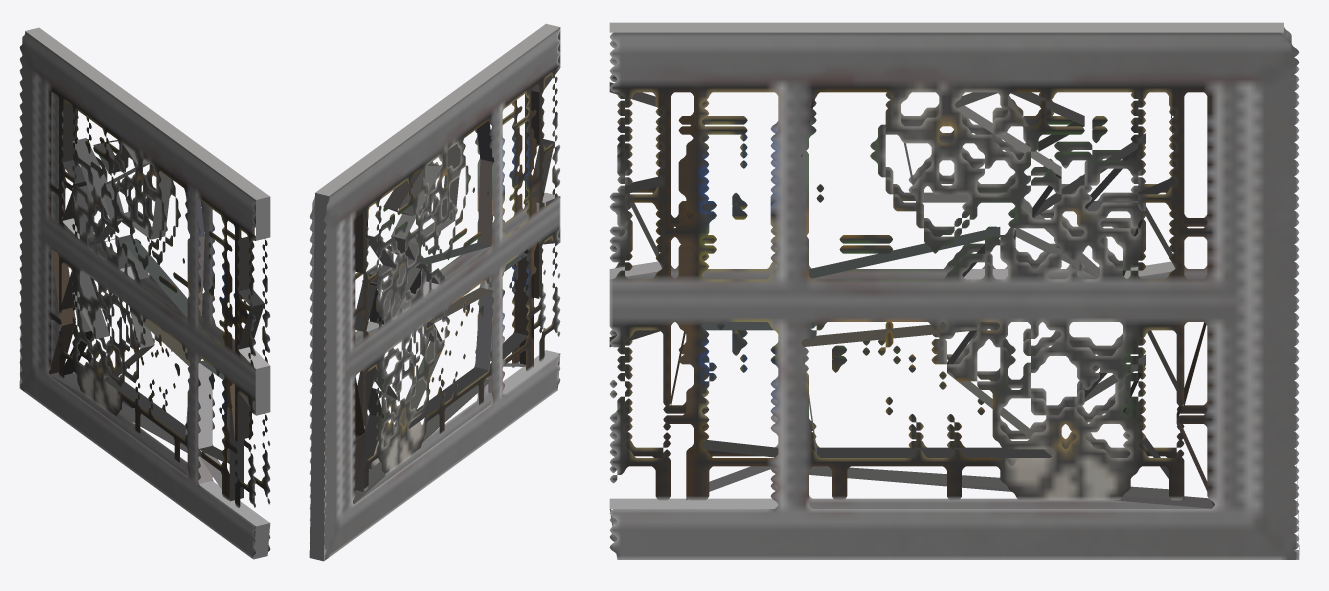
The model's file is pz_native_location_community_church_small_01_122_frame.obj.
3 renders of one model, left to right at view 1: azimuth 30°, elevation 25°; view 2: azimuth 150°, elevation 25°; view 3: azimuth 270°, elevation 25°, orthographic. The views are drawn at different scales.
Visible parts, largest first — view 1: pz_native_location_community_church_small_01_122_frame; view 2: pz_native_location_community_church_small_01_122_frame; view 3: pz_native_location_community_church_small_01_122_frame.
Part boxes in pixels (bbox=[...]): pz_native_location_community_church_small_01_122_frame: bbox=[19, 27, 270, 559]; pz_native_location_community_church_small_01_122_frame: bbox=[309, 23, 560, 561]; pz_native_location_community_church_small_01_122_frame: bbox=[609, 22, 1299, 559].
Size of the model in its own units: 0.04 by 1.02 by 1.2.
Materials: 1 (1 with a texture image).
